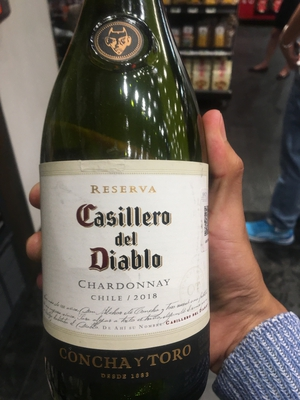casillero del diablo chardonnay: (40, 15, 212, 399)
